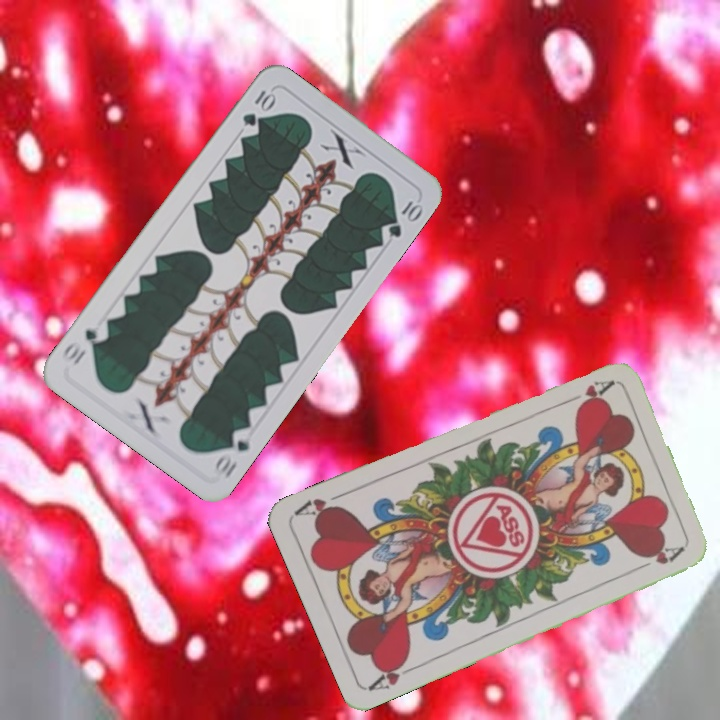G10: (210, 424, 253, 480), (238, 86, 278, 129)
HA: (365, 654, 422, 694), (558, 376, 615, 408)
